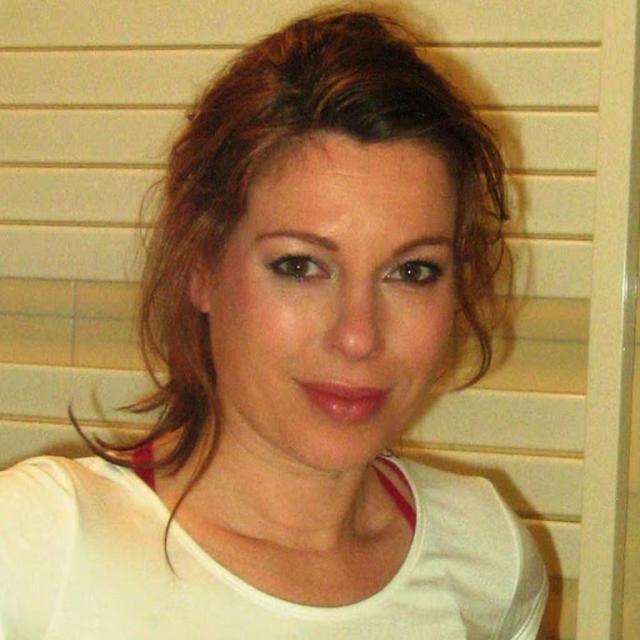Face: (234, 127, 463, 475)
